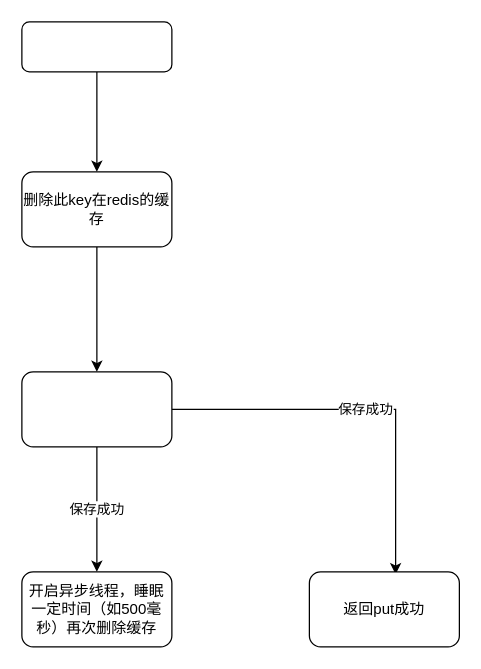
Image size: 481x669. Some labels were removed from this diagram. Each missing label, with the centre of its shape:
put接口: pixel 96 46
保存到数据库: pixel 96 409
